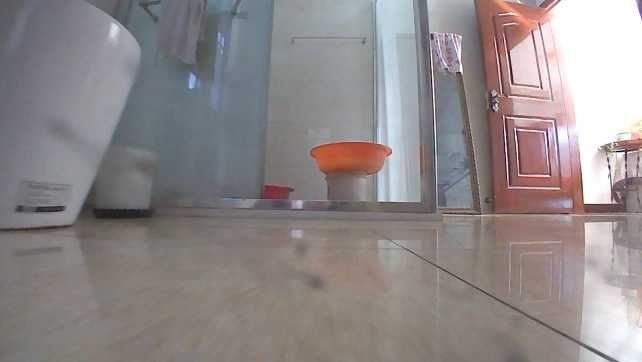door_anno: (473, 0, 587, 216)
toilet: (0, 0, 144, 236)
